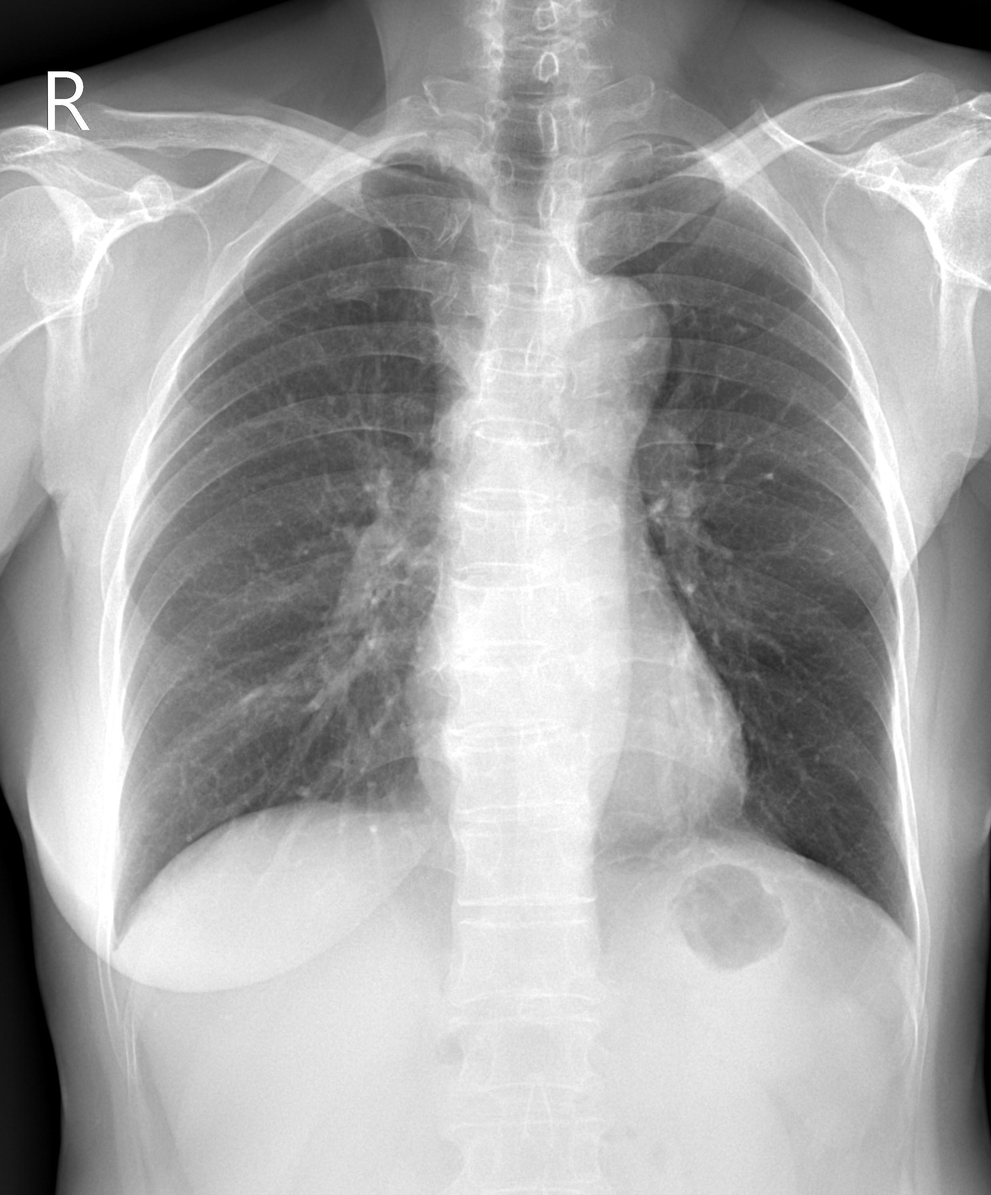Aortic enlargement: (536, 275, 669, 391)
Pleural thickening: (366, 136, 481, 174), (890, 899, 929, 969)
